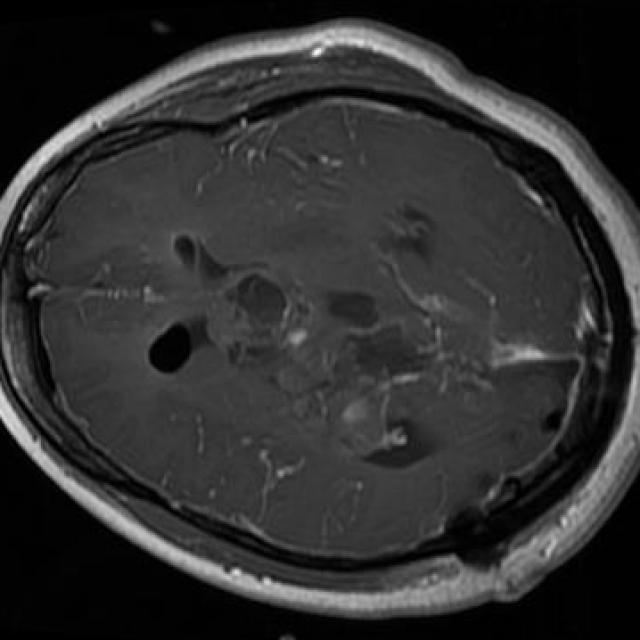glioma: (207, 266, 403, 458)
